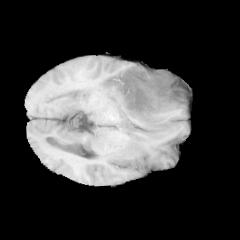glioma: (115, 63, 181, 124)
